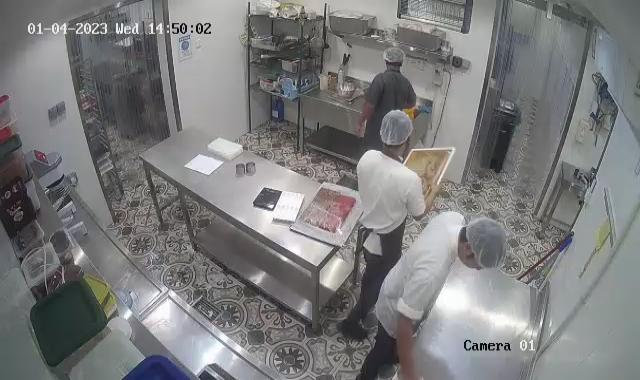hairnet: (465, 212, 510, 271), (379, 107, 415, 149), (382, 42, 408, 67)
